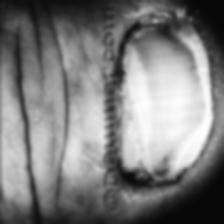Toxin: (116, 10, 212, 188)
